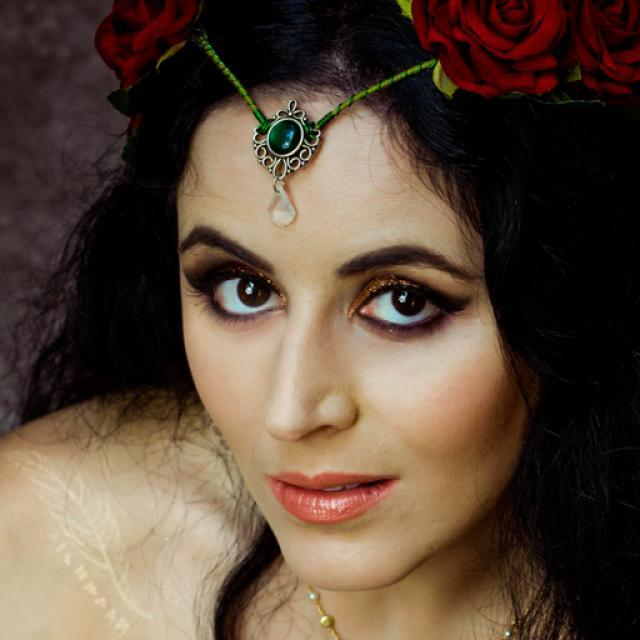content: (177, 80, 527, 588)
